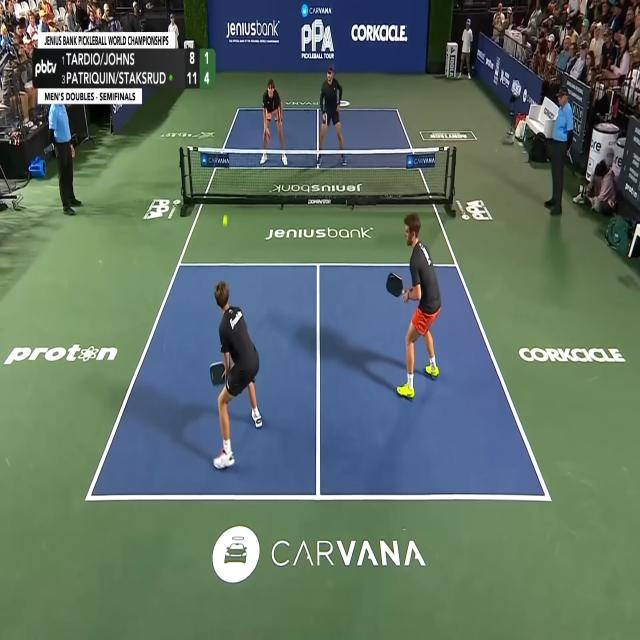ball: (222, 213, 228, 228)
